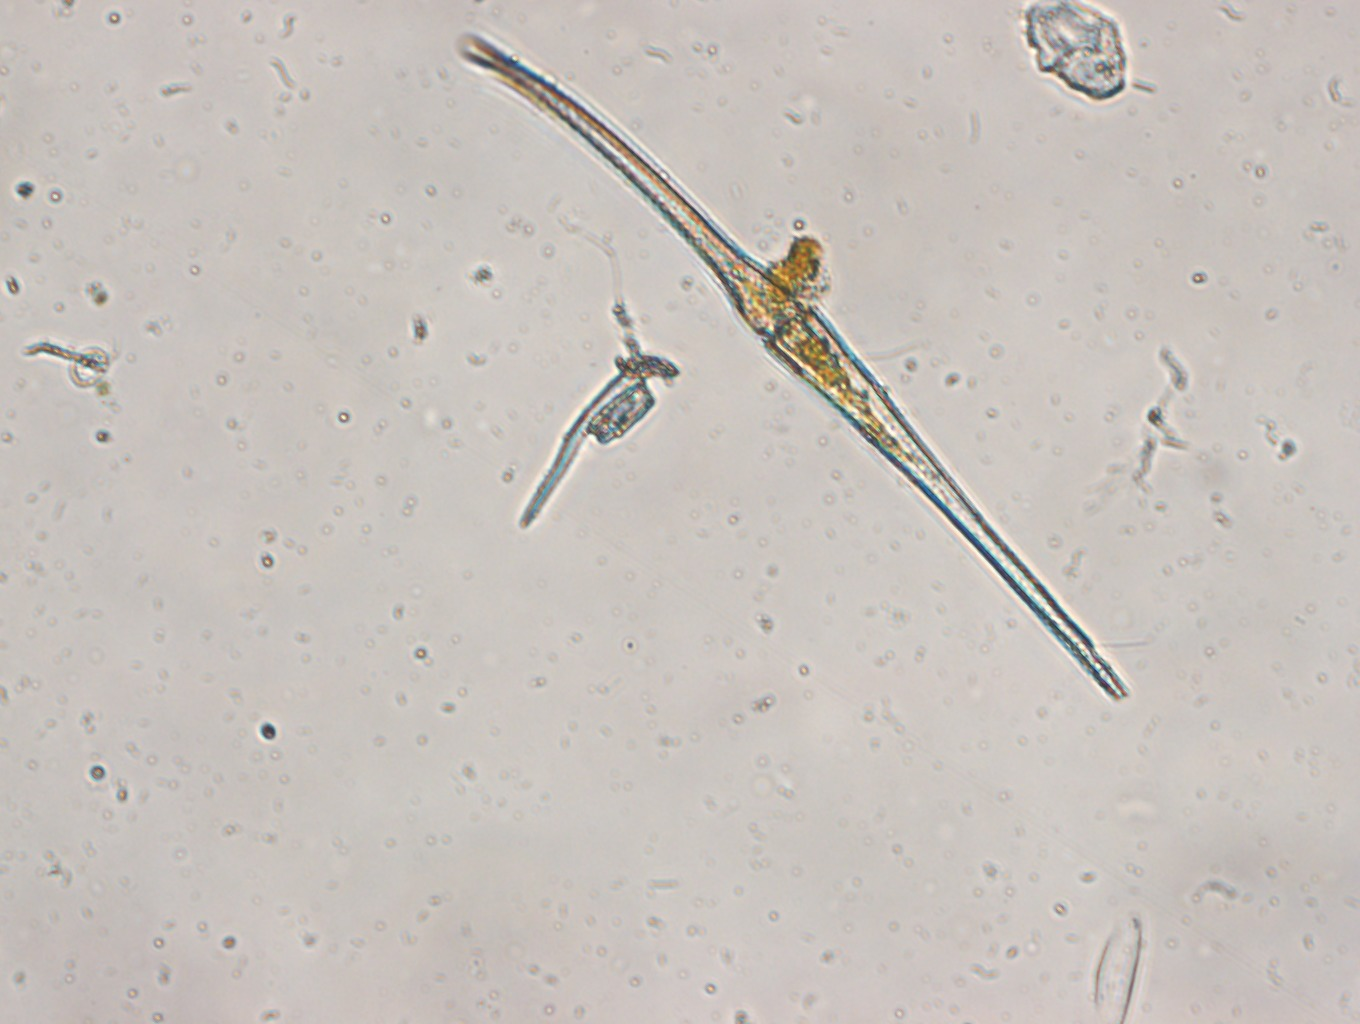ceratium fusus: (455, 23, 1141, 716)
